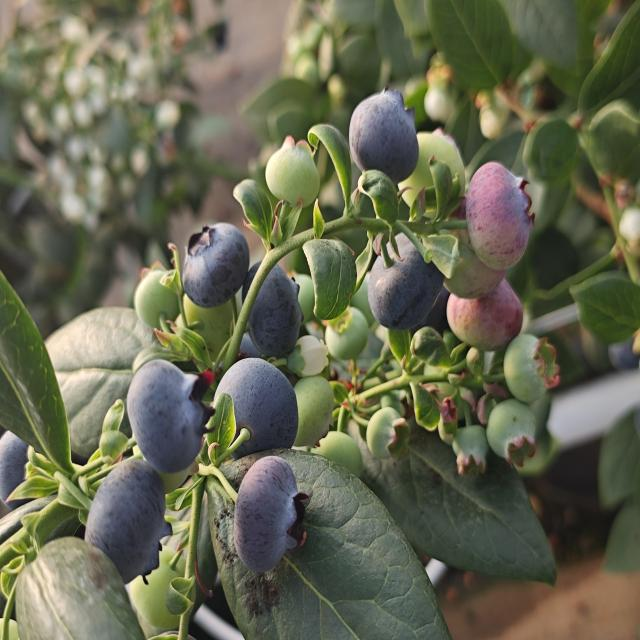ripe: (80, 453, 173, 593), (124, 356, 216, 479), (230, 453, 311, 577), (210, 355, 300, 460), (366, 228, 446, 334), (0, 406, 72, 513), (347, 86, 421, 188), (179, 220, 251, 311), (240, 259, 304, 360)
